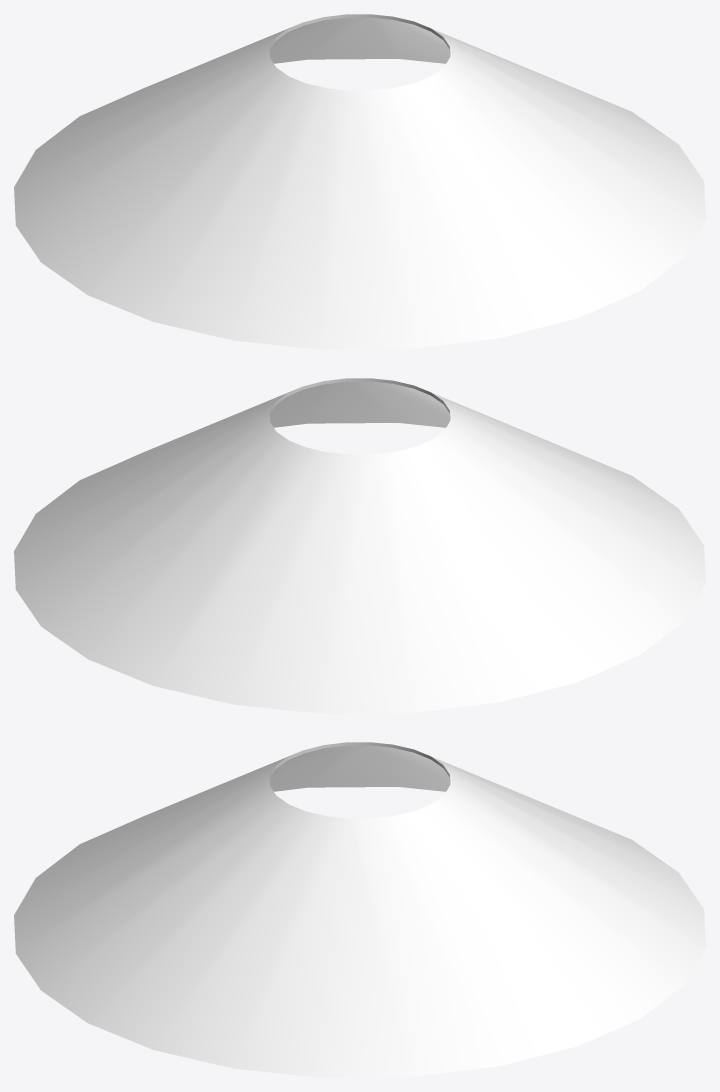
File: cone_working.dae
3 views of the same model, one above another, from view 1: azimuth 30°, elevation 25°; view 2: azimuth 150°, elevation 25°; view 3: azimuth 270°, elevation 25° (orthographic).
Visible parts, largest first — view 1: SketchUp; view 2: SketchUp; view 3: SketchUp.
Part boxes in pixels (x1,y1,x2,y2): SketchUp: (14,14,705,349); SketchUp: (14,378,705,713); SketchUp: (14,742,705,1077).
Bounding box in the file's own units: 7.51 × 7.51 × 1.81.
Materials: 1 (1 with a texture image).
